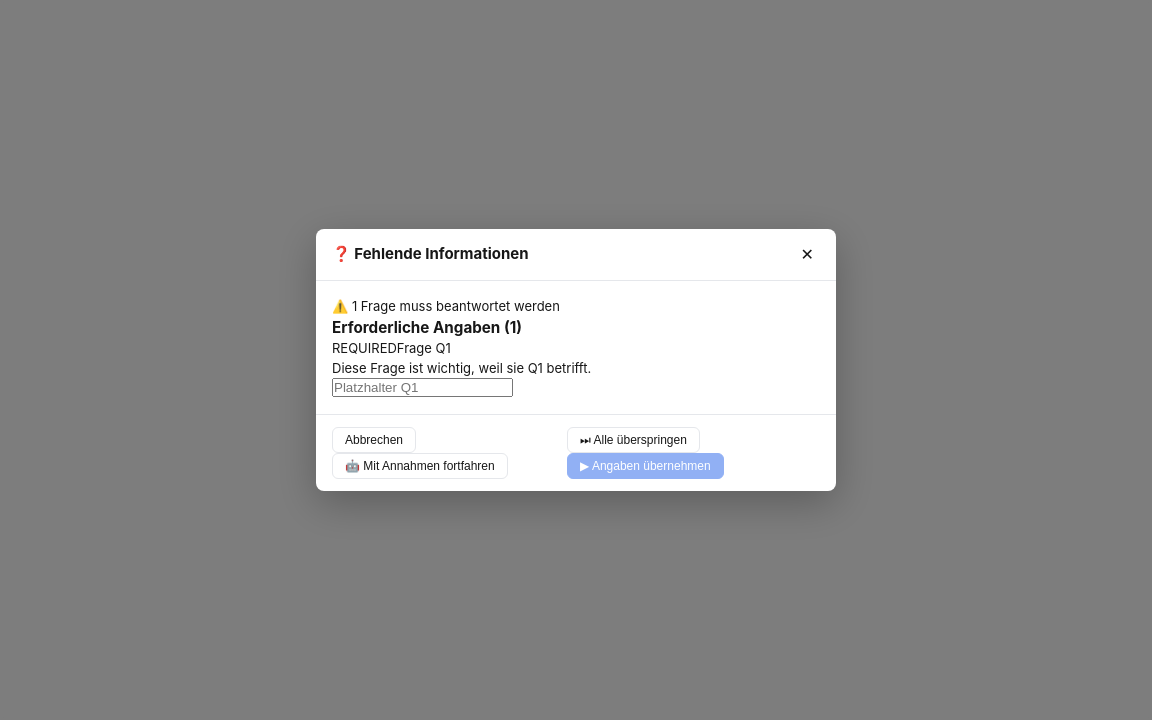
Test: MissingInfoGate — Constraints (#255) › no conflicts when prompt has no constraints
Answer the question
Type "Beliebige Antwort" into the field with test id "gate-input-Q1" at (422, 388), box left=332, top=378, right=513, bottom=397
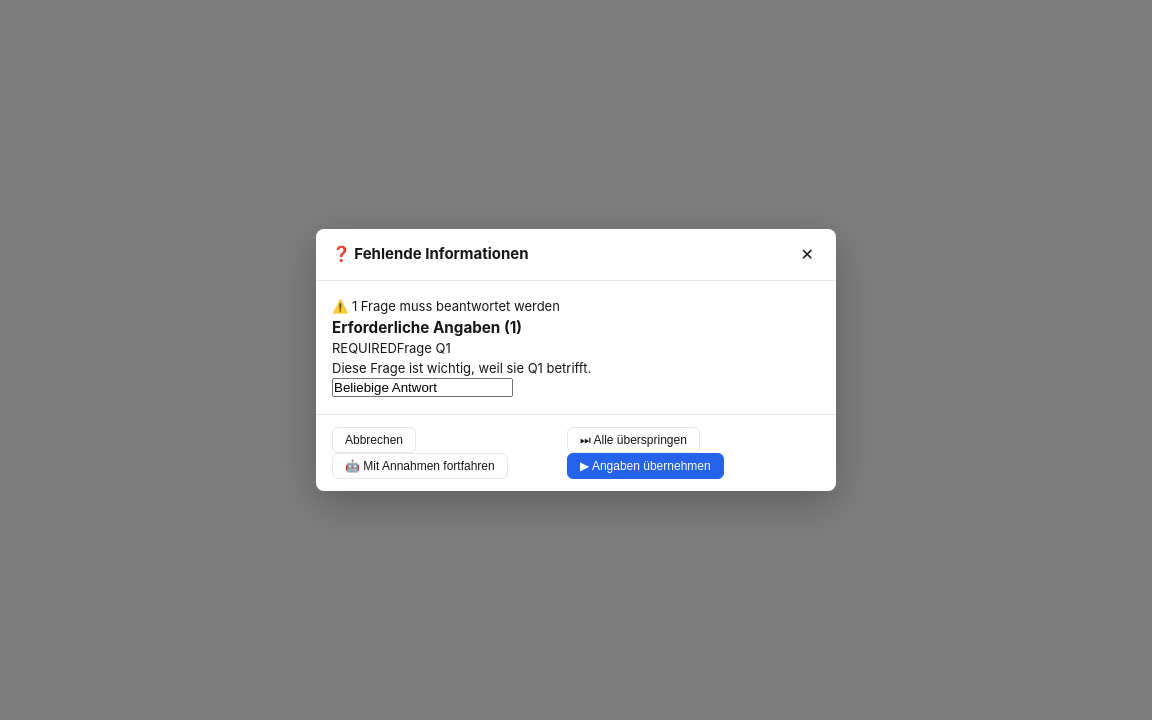
Now the button with test id "gate-btn-proceed" is enabled, box left=567, top=453, right=724, bottom=479
